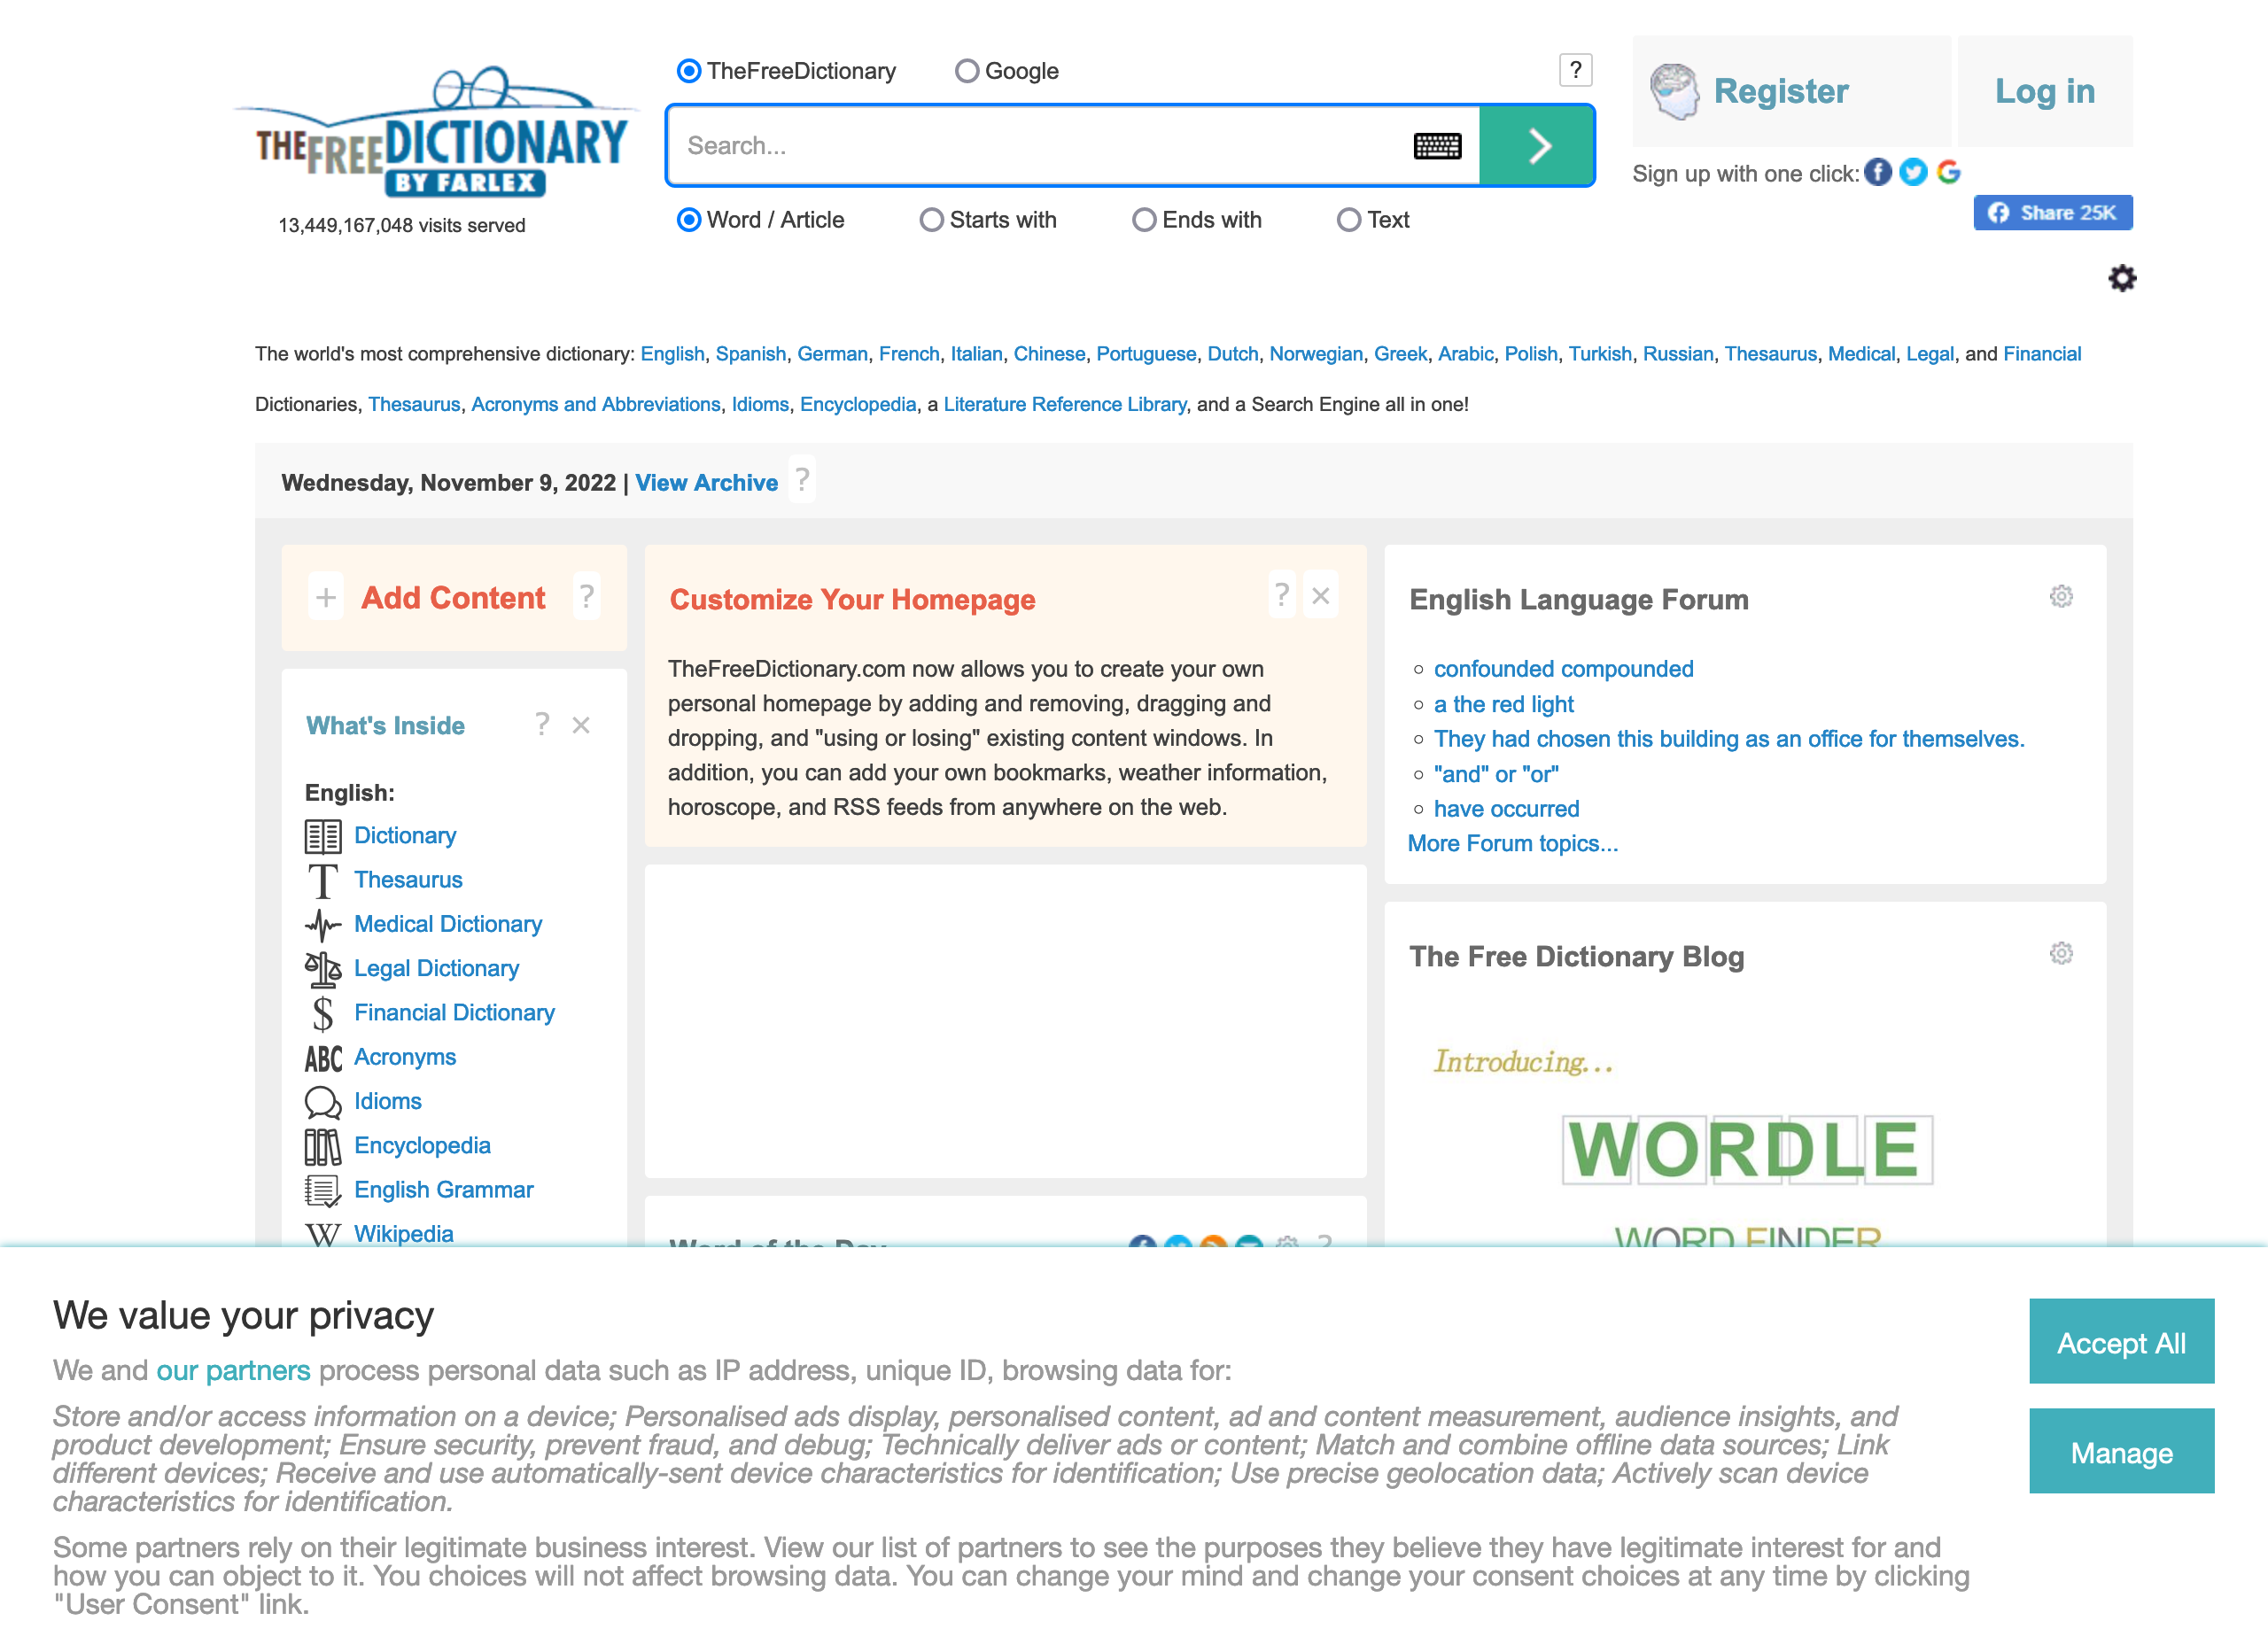Login: (1974, 56, 2122, 130)
